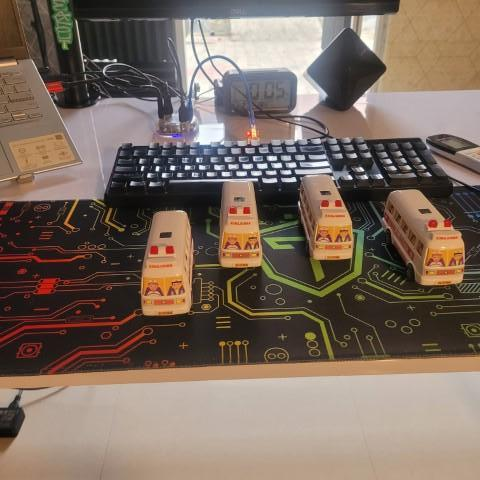ambulance: (381, 182, 467, 288), (294, 167, 360, 263), (140, 206, 193, 321), (213, 177, 265, 271)
